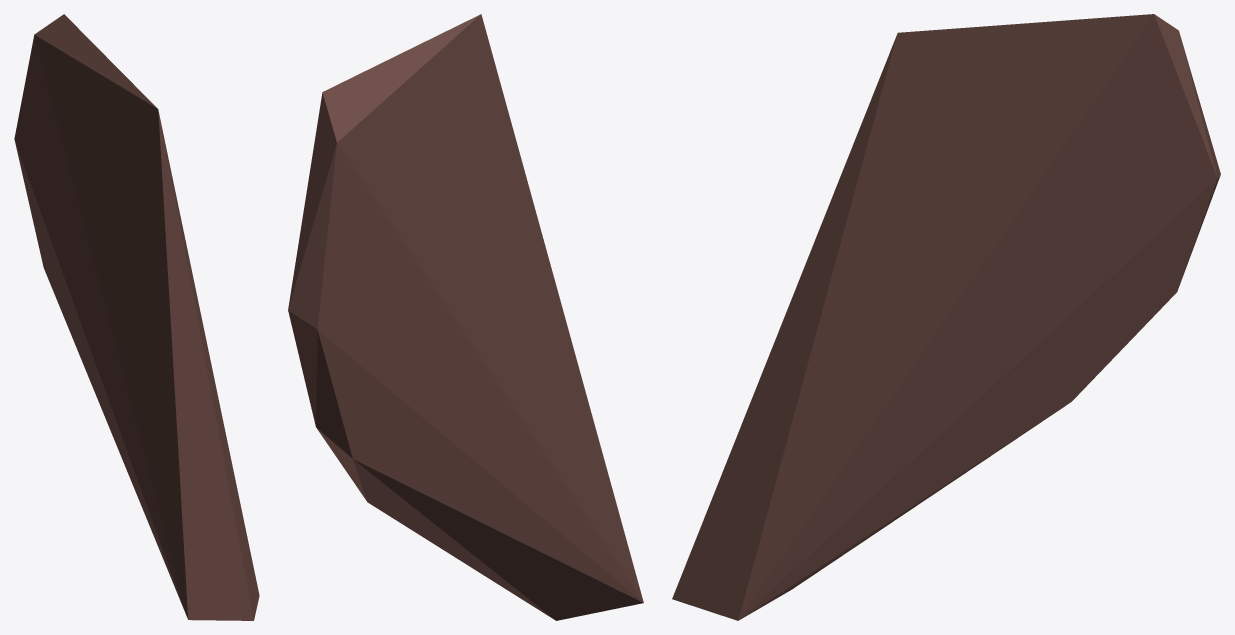
File: Willow_Dead_3.lod4.glb
The picture shows the model from 3 angles, left to right: view 1: azimuth 30°, elevation 25°; view 2: azimuth 150°, elevation 25°; view 3: azimuth 270°, elevation 25°; orthographic projection. The views are drawn at different scales.
Visible parts, largest first — view 1: Willow_Dead_3; view 2: Willow_Dead_3; view 3: Willow_Dead_3.
Boxes of the visible parts, bbox=[...] form: Willow_Dead_3: bbox=[14, 14, 259, 620]; Willow_Dead_3: bbox=[288, 14, 643, 620]; Willow_Dead_3: bbox=[672, 14, 1220, 620].
Size of the model in its own units: 0.3338 by 1.89 by 1.6.
